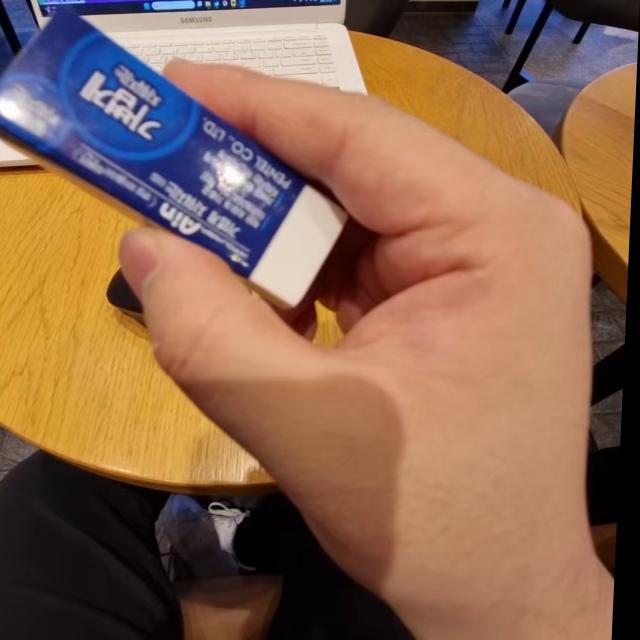grab_eraser: (0, 10, 640, 572)
